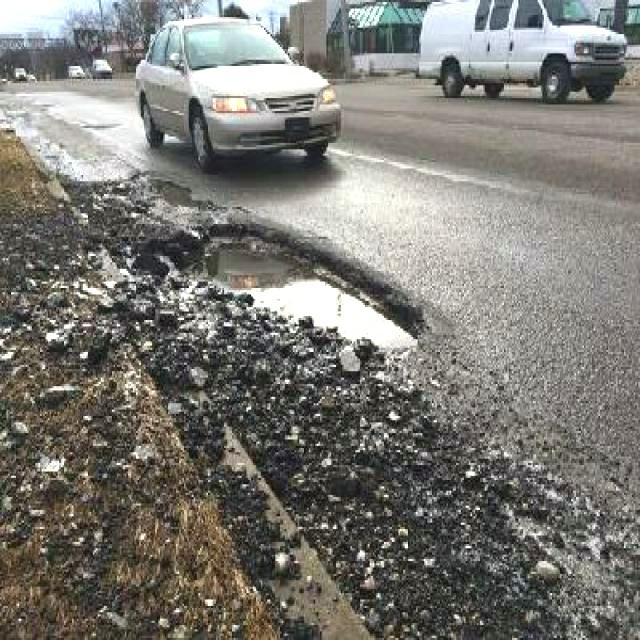Pothole: (179, 215, 427, 356), (142, 171, 214, 213)
